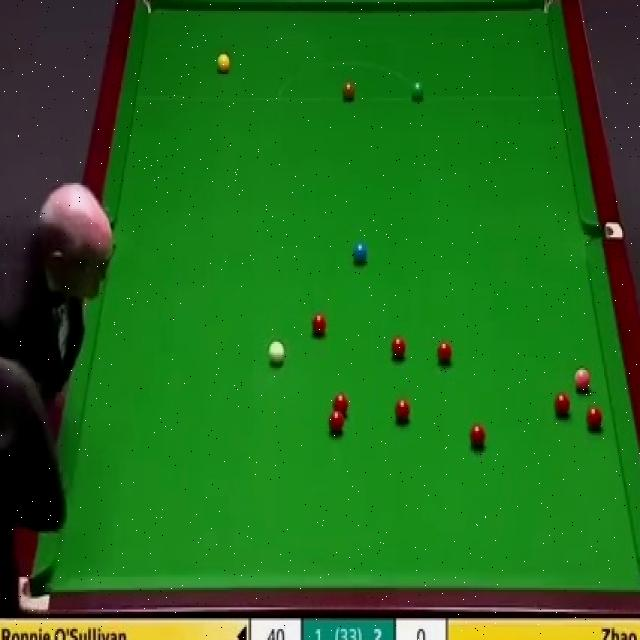blue-ball: (353, 239, 368, 267)
brown-ball: (341, 82, 357, 101)
green-ball: (410, 79, 426, 103)
pink-ball: (573, 369, 592, 390)
red-ball: (327, 409, 344, 437), (393, 398, 410, 425), (468, 424, 486, 449), (437, 339, 453, 367), (389, 337, 405, 364), (332, 392, 349, 416), (587, 404, 603, 429), (553, 392, 571, 414), (311, 311, 326, 336)
white-ball: (266, 338, 284, 368)
yellow-ball: (217, 55, 231, 75)
